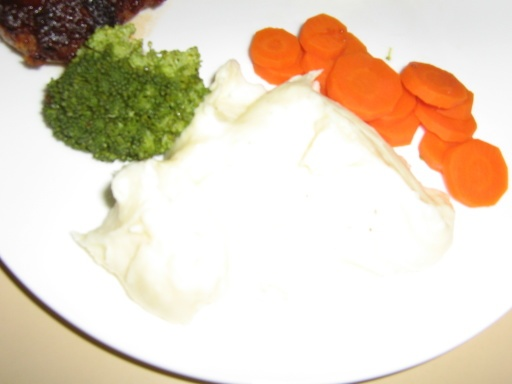background: (0, 0, 408, 216)
